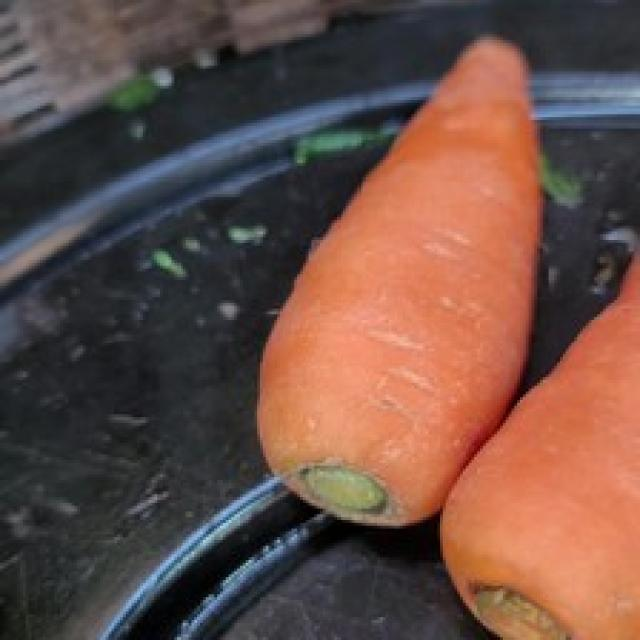Fresh_Carrot: (242, 41, 534, 536), (447, 277, 639, 638)
